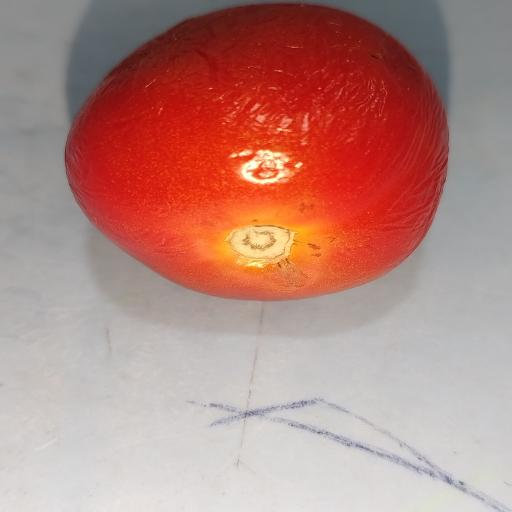spoiled: (66, 3, 448, 300)
